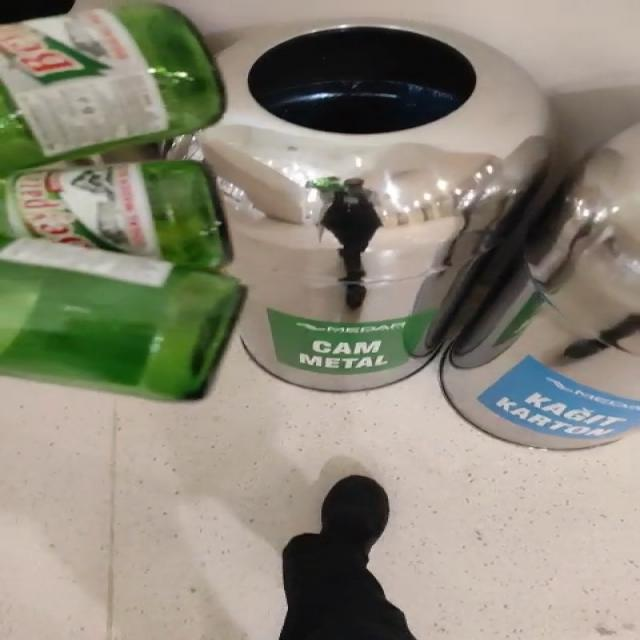bin: (200, 19, 548, 391)
glass: (0, 4, 244, 400)
